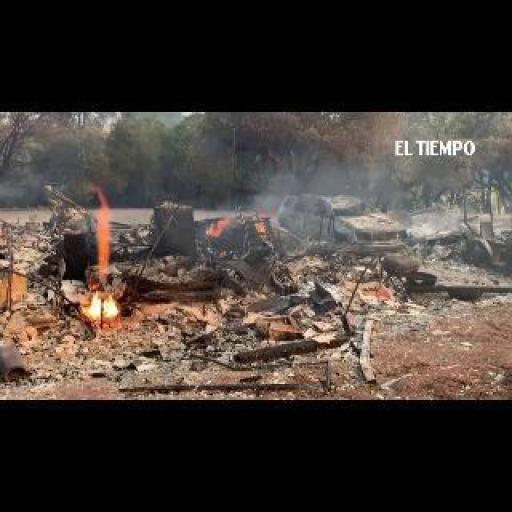smoke: (94, 190, 116, 278), (85, 296, 118, 320), (205, 219, 227, 237), (259, 213, 267, 230)
